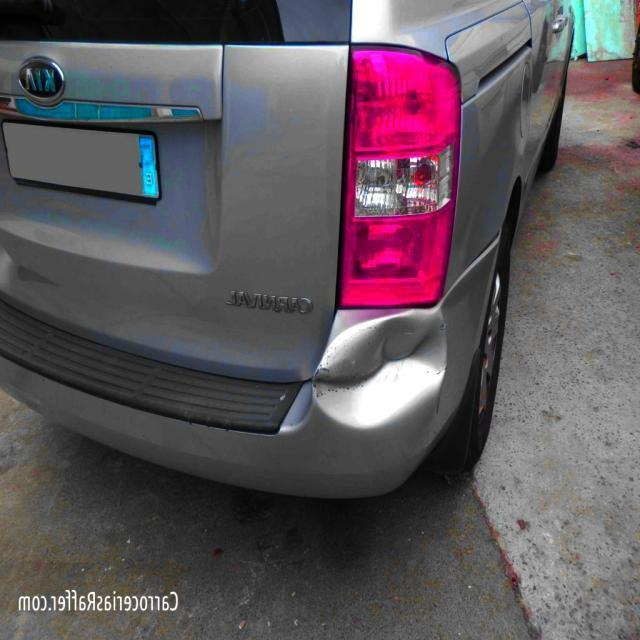minor: (304, 305, 448, 430)
